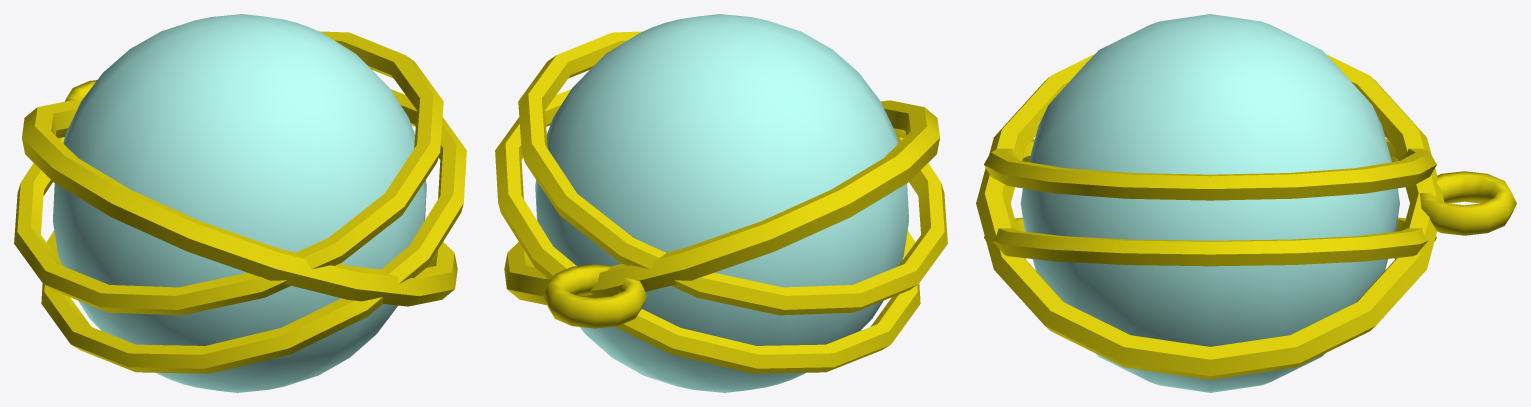
The model's file is pendant0104.fbx.
The picture shows the model from 3 angles, left to right: view 1: azimuth 30°, elevation 25°; view 2: azimuth 150°, elevation 25°; view 3: azimuth 270°, elevation 25°; orthographic projection.
Parts seen in each view (by area): view 1: pSphere3; view 2: pSphere3; view 3: pSphere3.
Boxes of the visible parts, bbox=[...] form: pSphere3: bbox=[14, 14, 466, 392]; pSphere3: bbox=[495, 14, 947, 392]; pSphere3: bbox=[976, 14, 1516, 392].
Size of the model in its own units: 7.35 by 6.12 by 8.73.
